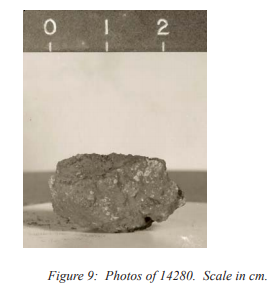Breccia: (41, 145, 206, 241)
